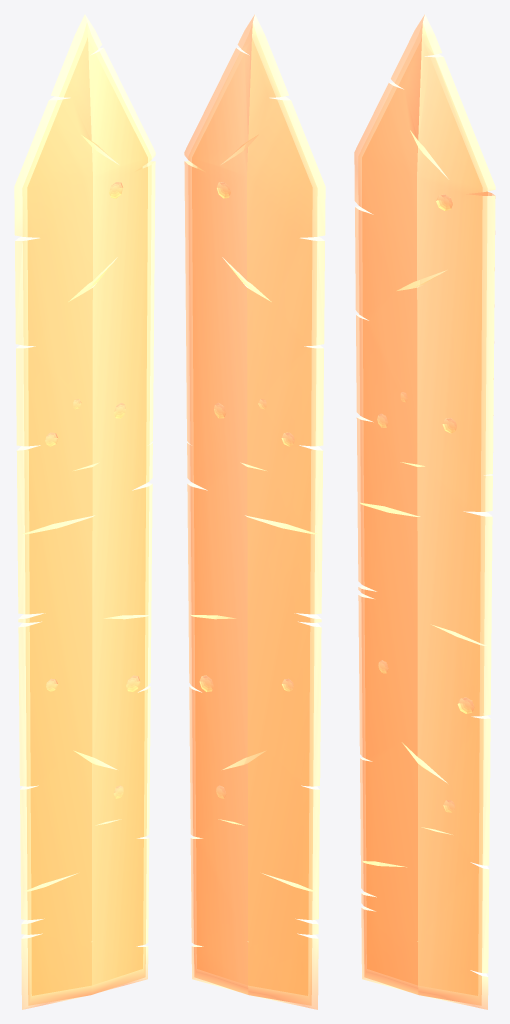
Rendered from wood_blade_bubbles_069.glb.
3 renders of one model, left to right at view 1: azimuth 30°, elevation 25°; view 2: azimuth 150°, elevation 25°; view 3: azimuth 330°, elevation 25°, orthographic.
Visible parts, largest first — view 1: wood_blade_bubbles.069; view 2: wood_blade_bubbles.069; view 3: wood_blade_bubbles.069.
Part boxes in pixels (x1,y1,x2,y2): wood_blade_bubbles.069: (14,14,155,1009); wood_blade_bubbles.069: (184,14,325,1009); wood_blade_bubbles.069: (354,14,495,1009).
Size of the model in its own units: 1.71 by 11.4 by 0.3369.
1 material, 1 textured.
